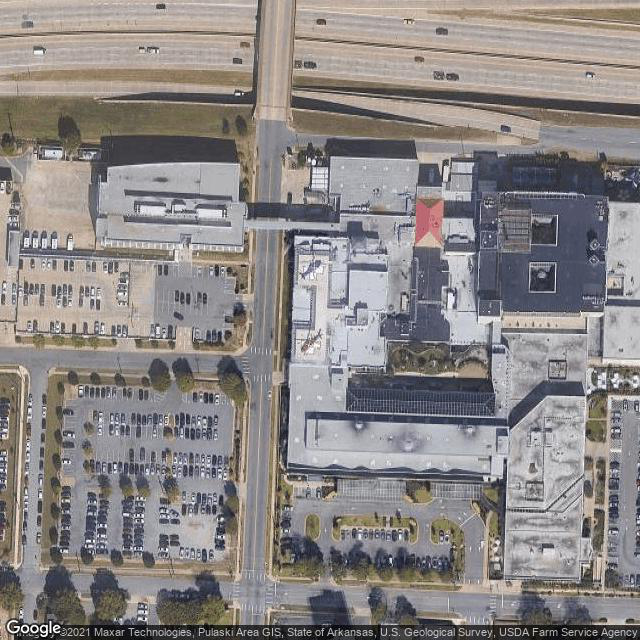Helipad: (295, 327, 327, 358), (298, 253, 327, 286)
